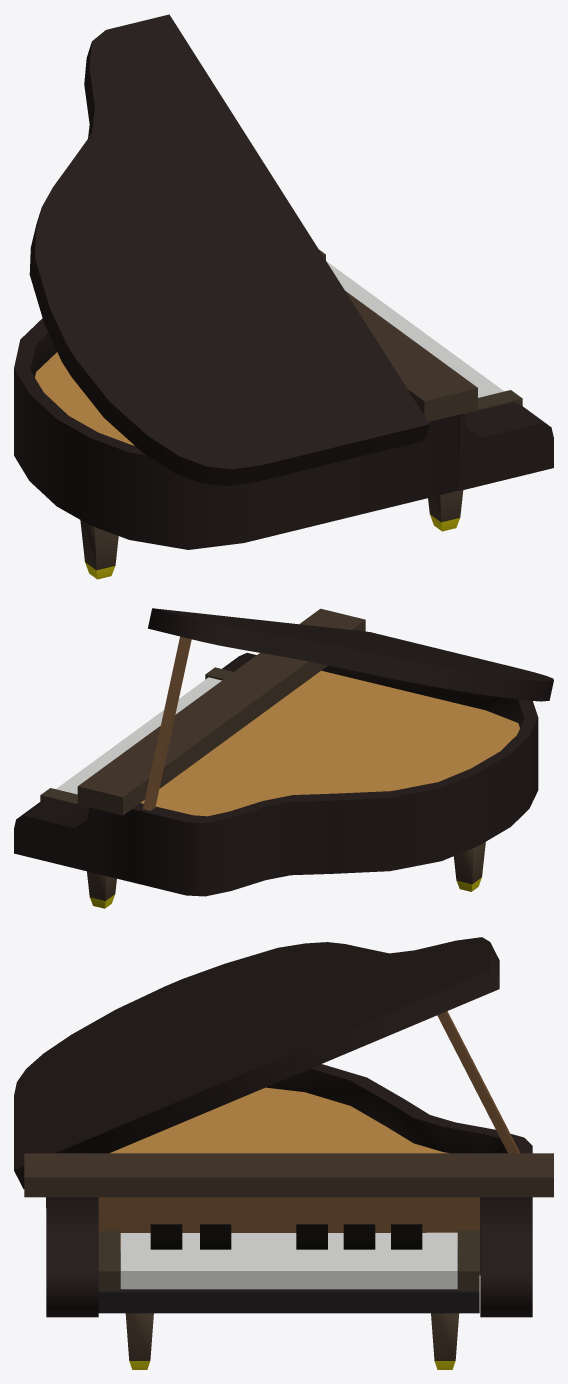
The model's file is CirclePiano.fbx.
The picture shows the model from 3 angles, top to bottom: view 1: azimuth 30°, elevation 25°; view 2: azimuth 150°, elevation 25°; view 3: azimuth 270°, elevation 25°; orthographic projection. The views are drawn at different scales.
Parts seen in each view (by area): view 1: Piano; view 2: Piano; view 3: Piano.
Part boxes in pixels (bbox=[...]): Piano: bbox=[14, 14, 553, 579]; Piano: bbox=[14, 608, 553, 908]; Piano: bbox=[14, 937, 553, 1369].
Bounding box in the file's own units: 1077 × 978 × 1333.
